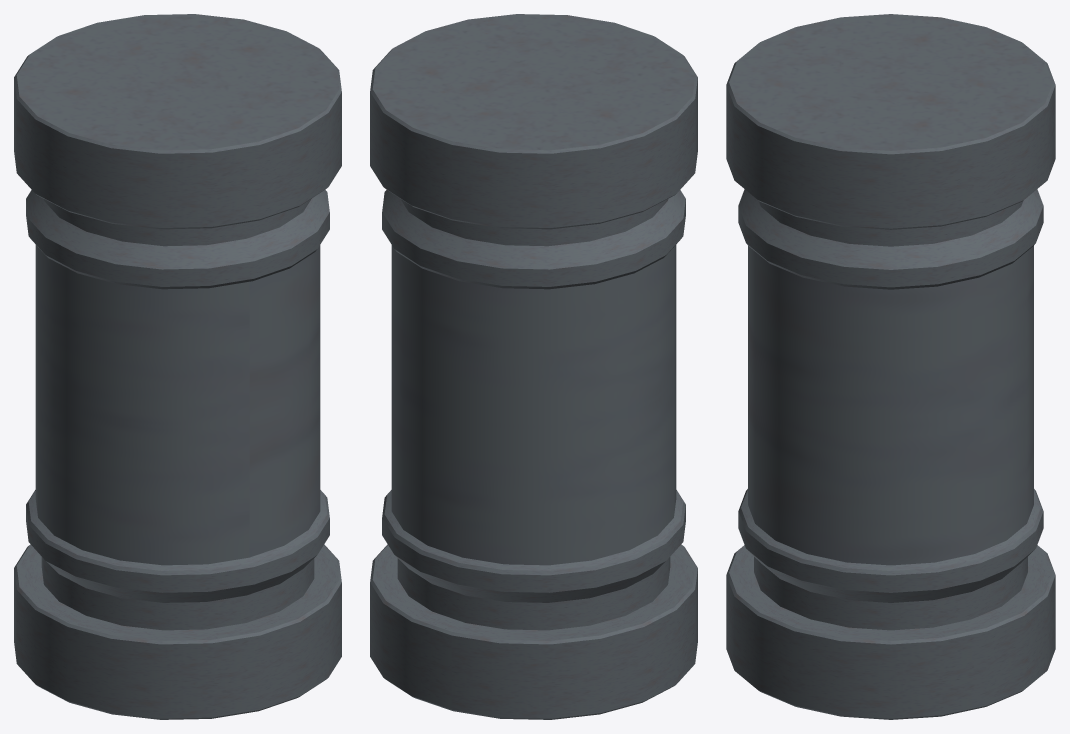
File: Advertising Column_Light.fbx
3 renders of one model, left to right at view 1: azimuth 30°, elevation 25°; view 2: azimuth 150°, elevation 25°; view 3: azimuth 270°, elevation 25°, orthographic.
Visible parts, largest first — view 1: Column, Lamp; view 2: Column, Lamp; view 3: Column, Lamp.
Part boxes in pixels (x1,y1,x2,y2): Column: [14, 14, 341, 719]; Lamp: [35, 245, 320, 565]; Column: [370, 14, 697, 719]; Lamp: [391, 245, 676, 565]; Column: [726, 14, 1055, 719]; Lamp: [748, 246, 1033, 565].
Size of what is drawn, in the model's own units: 2 by 3.82 by 2.
Materials: 1 (1 with a texture image).
